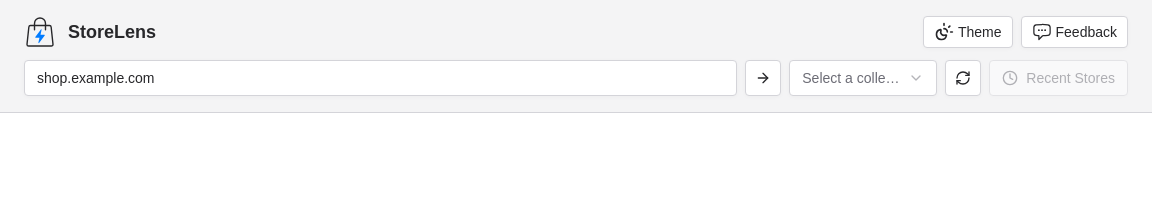
Scenario: Header collection dropdown › adds a disabled partial-list warning and the platform's note after the collections
Click the dropdown.
click(863, 78)  # box [789,60,937,96]
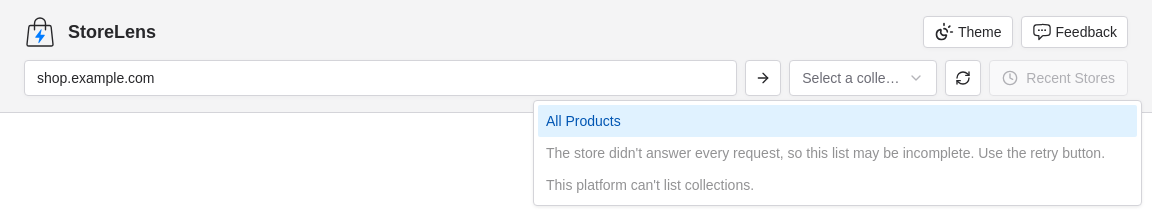
Check: the options read "All Products", "The store didn't answer every request, so this list may be incomplete. Use the retry button.", "This platform can't list collections.", in this order, box [538,105,1137,137]; [546,145,1105,161]; [546,177,754,193]
